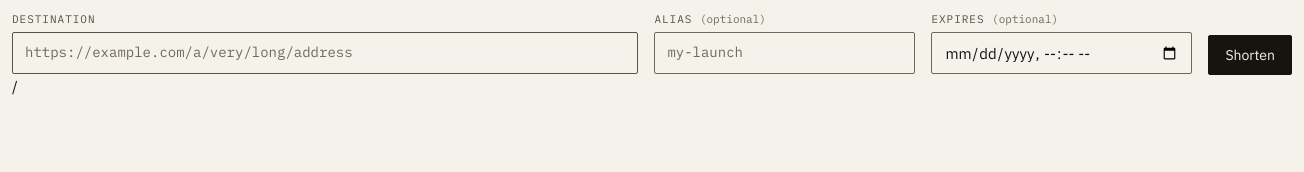
it: LinkComposer › shows refusals that belong to no field (taken alias, blocked address) as an alert above the form
Type "https://example.com" into the field labelled "Destination".
click(325, 53); type("https://example.com")  # box top-left (12, 32), bottom-right (638, 74)
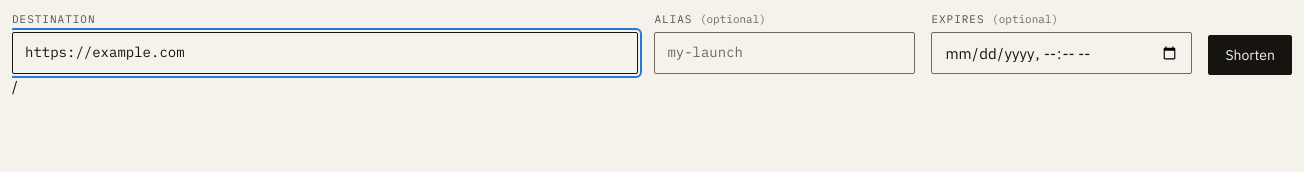
Click the button "Shorten".
click(1250, 55)  # box top-left (1208, 35), bottom-right (1292, 75)
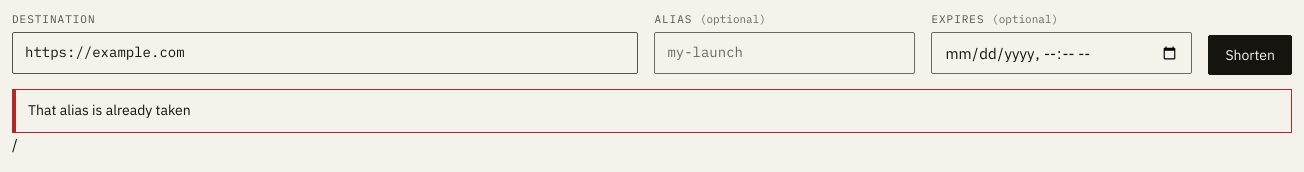
Expected: the message reads "That alias is already taken", top-left (28, 101), bottom-right (191, 119)
